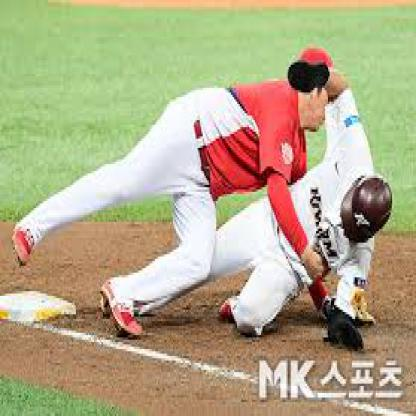Fall_Down: (10, 48, 335, 337)
